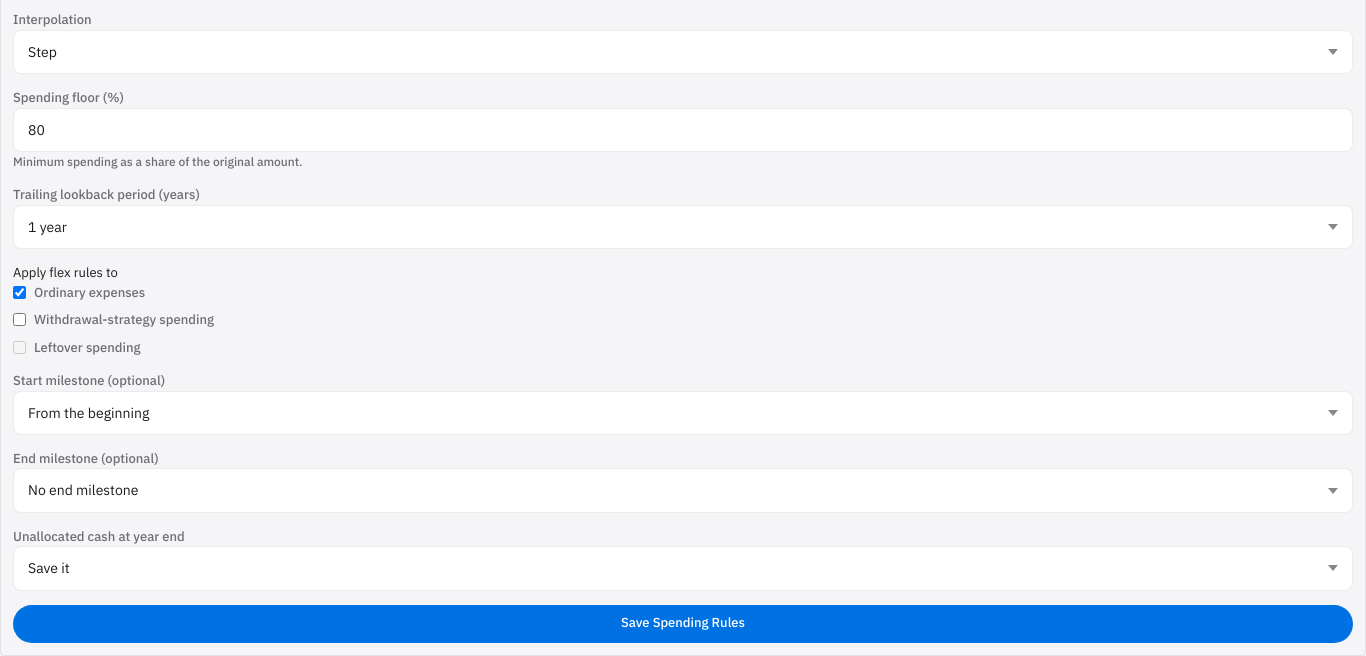
leaves the legacy document shape alone when no addition is chosen
The width and height of the screenshot is (1366, 656).
(page scrolled)
Click the button "Save Spending Rules".
click(683, 624)  # box [13,605,1353,643]
(page scrolled)
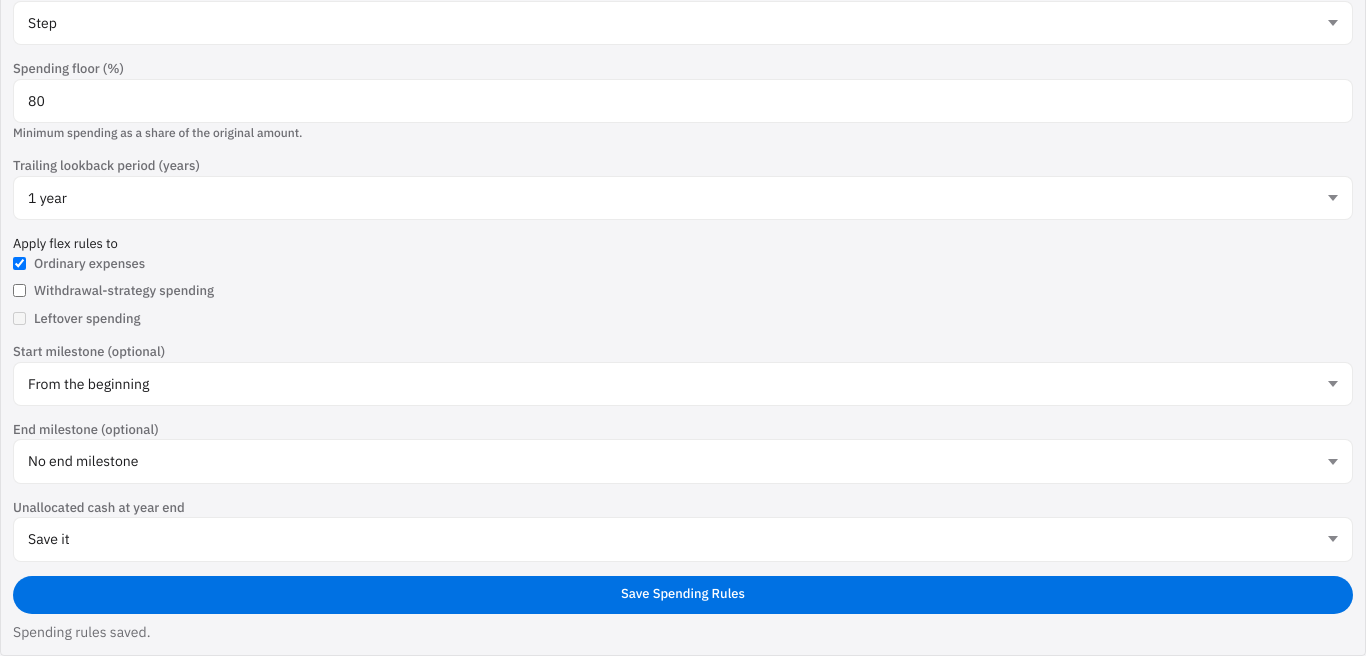
Now the message shows "saved", box [13,623,150,641]
